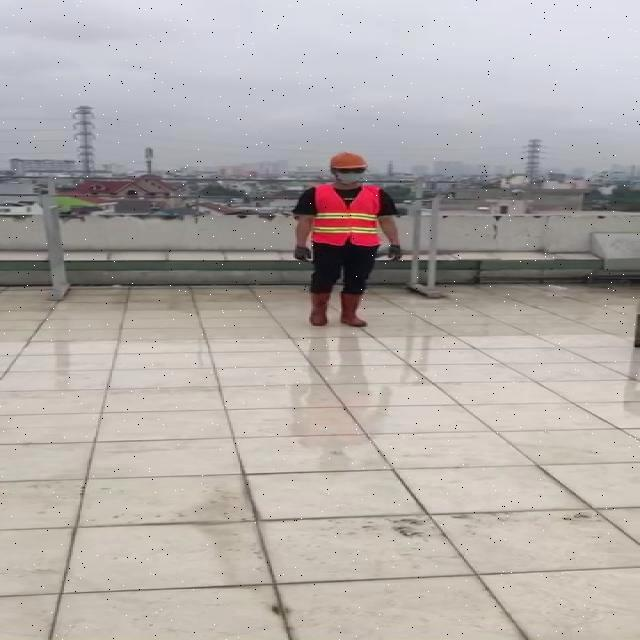Hard_hat: (325, 149, 371, 174)
Vest: (309, 183, 384, 248)
